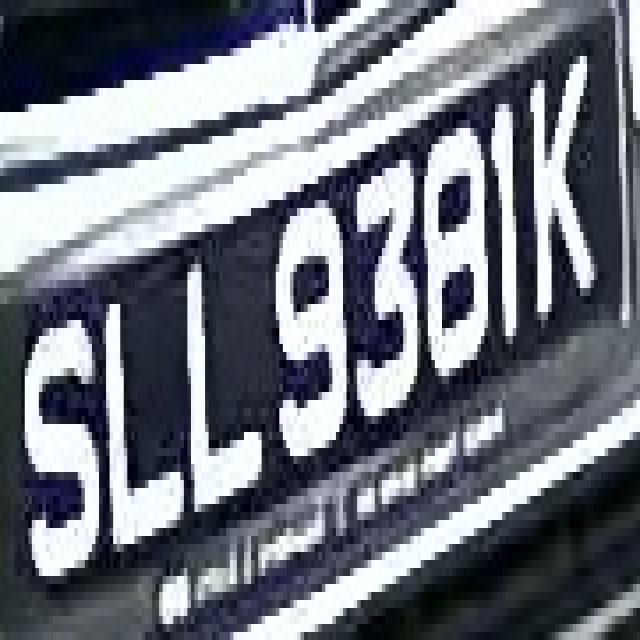1: (481, 72, 530, 392)
3: (350, 168, 424, 440)
8: (410, 128, 488, 416)
9: (265, 192, 354, 480)
K: (527, 56, 597, 312)
L: (173, 216, 262, 512), (102, 264, 180, 552)
S: (14, 304, 110, 608)
